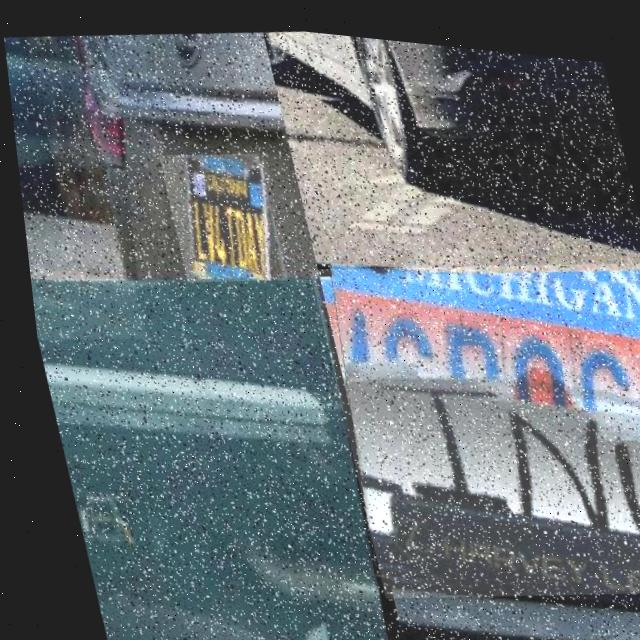LicensePlate: (300, 220, 640, 616), (154, 140, 282, 286), (23, 267, 140, 349)
